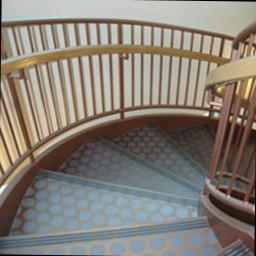Escaleras: (0, 8, 255, 256)
